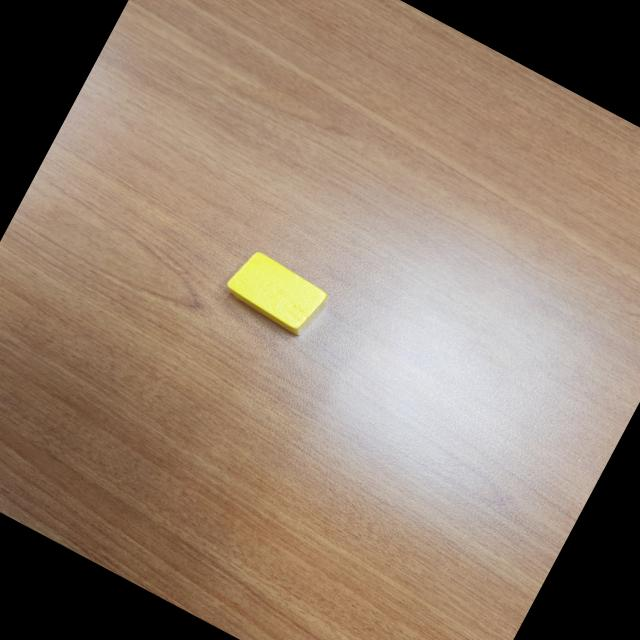yellow: (217, 244, 334, 344)
